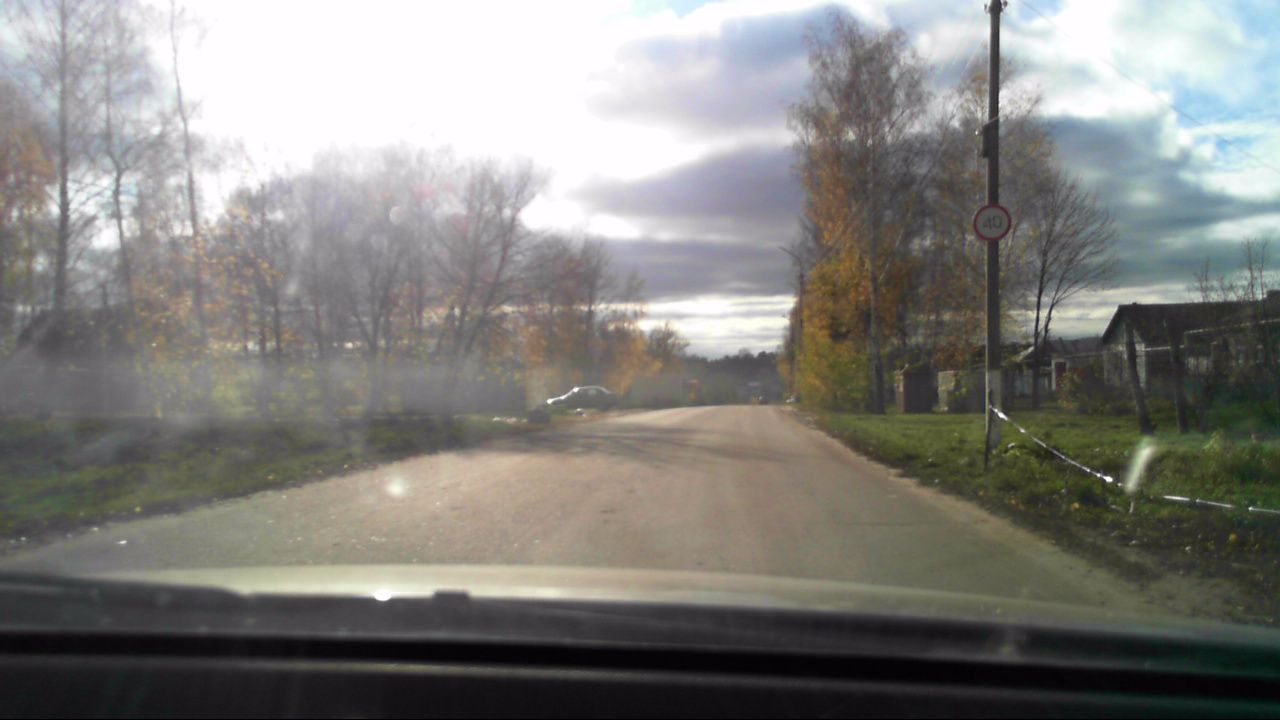speed_warning_40: (973, 203, 1013, 244)
